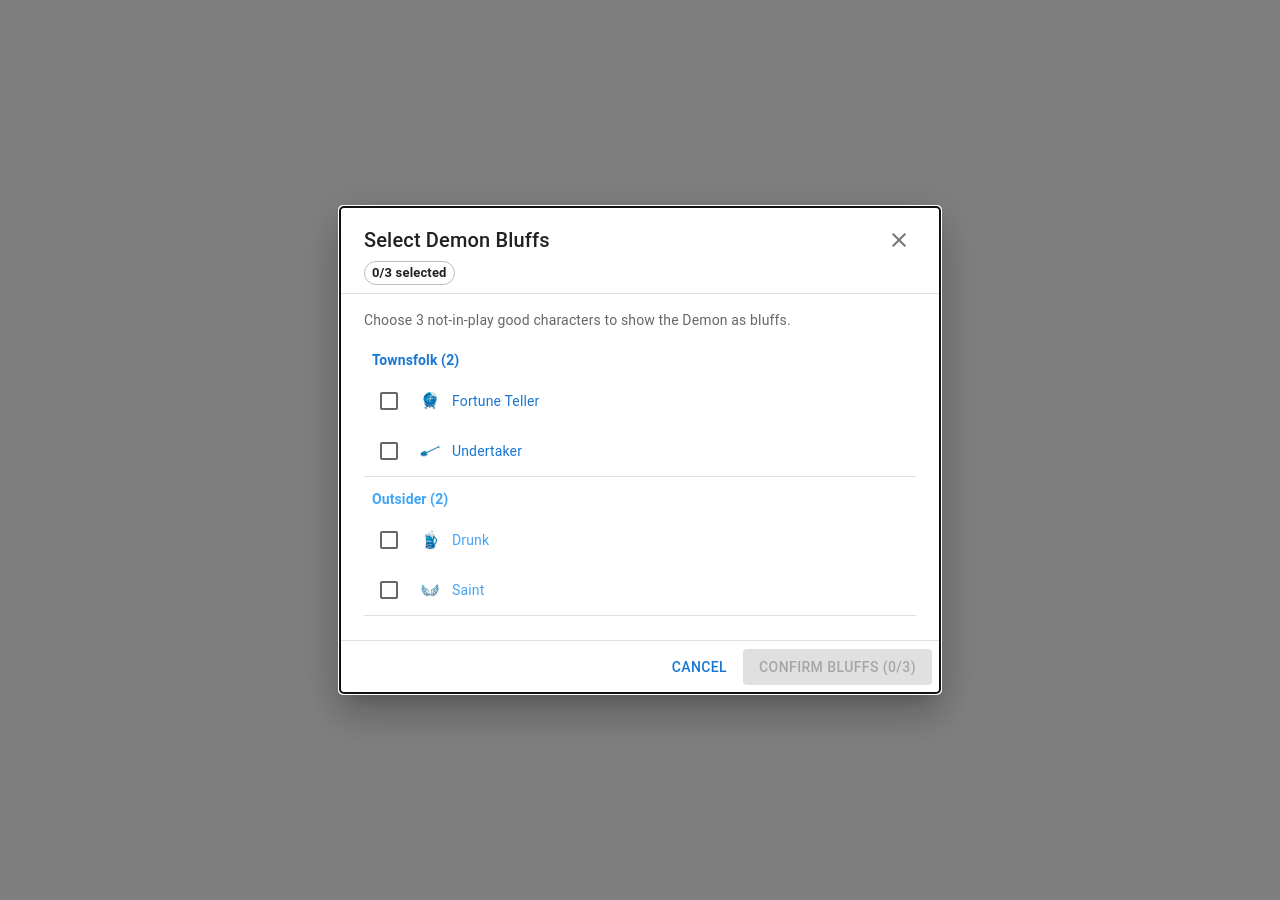
Test: DemonBluffSelection › allows selecting up to 3 bluffs
The width and height of the screenshot is (1280, 900).
Step 1. Click the button with test id "bluff-toggle-fortuneteller" → (458, 401), box 377,387 -> 540,415
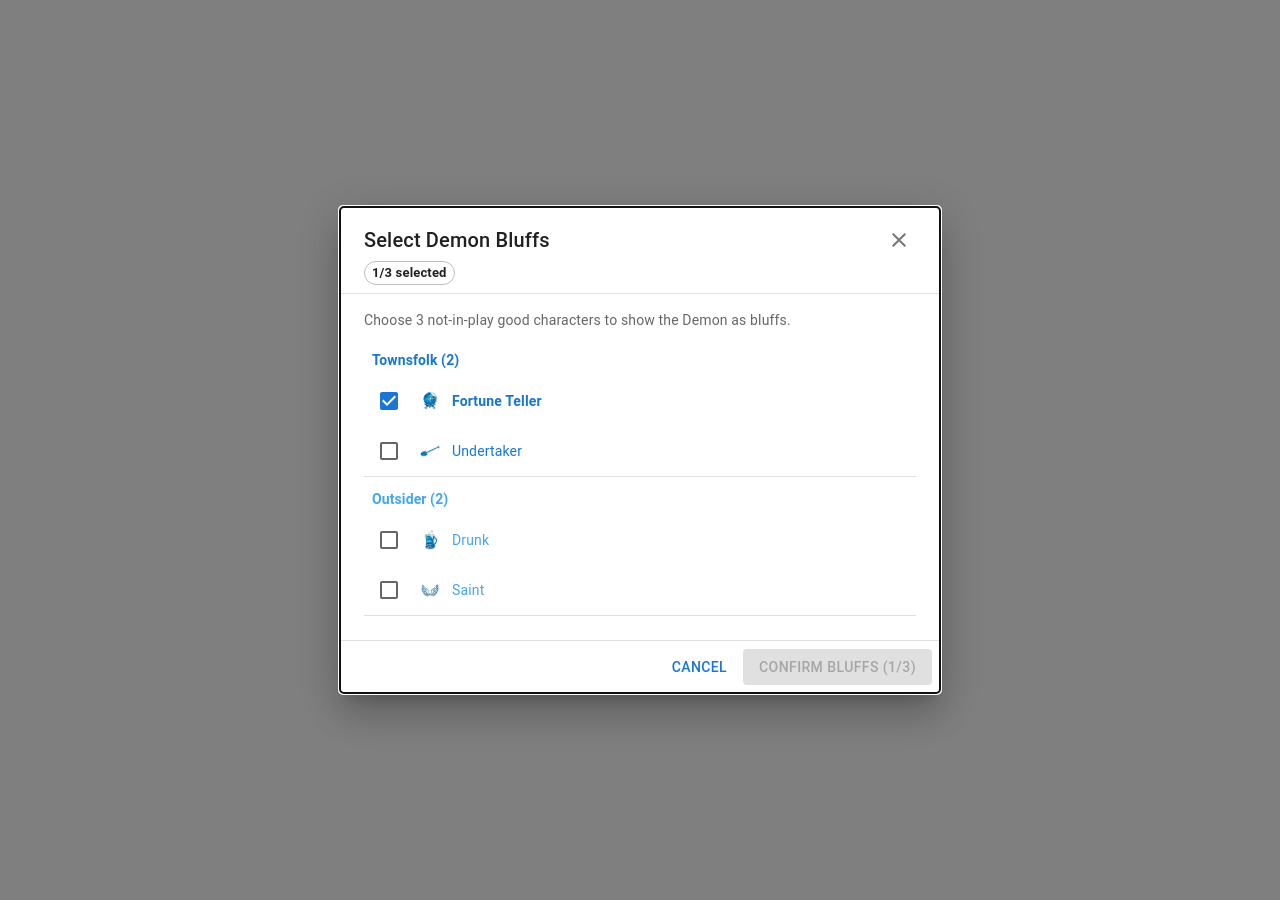
Check: the element with test id "bluff-count-chip" shows "1/3", box 372,265 -> 446,280
Step 2. Click the button with test id "bluff-toggle-undertaker" → (450, 451), box 377,437 -> 522,465
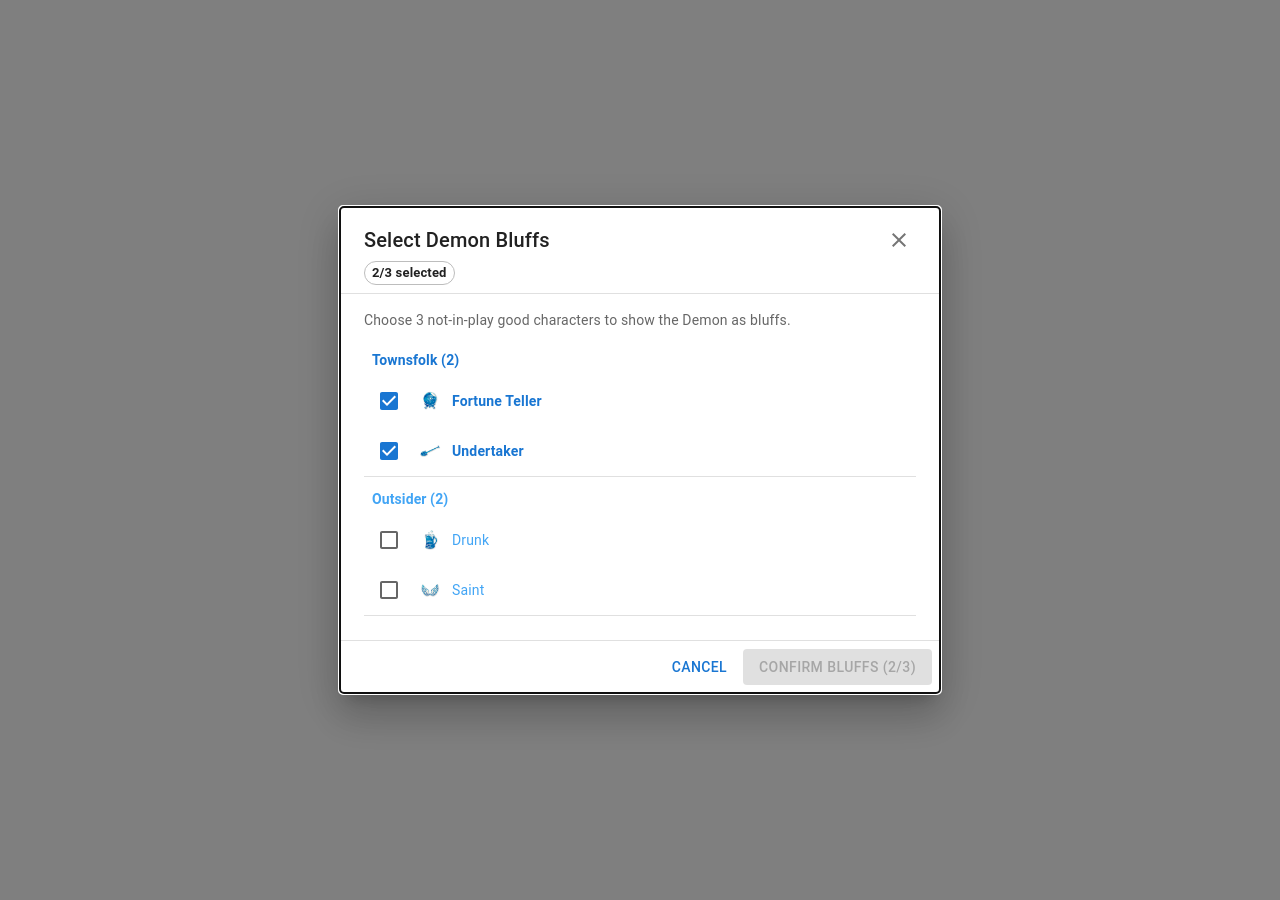
Check: the element with test id "bluff-count-chip" shows "2/3", box 372,265 -> 446,280
Step 3. Click the button with test id "bluff-toggle-drunk" → (433, 540), box 377,526 -> 489,554
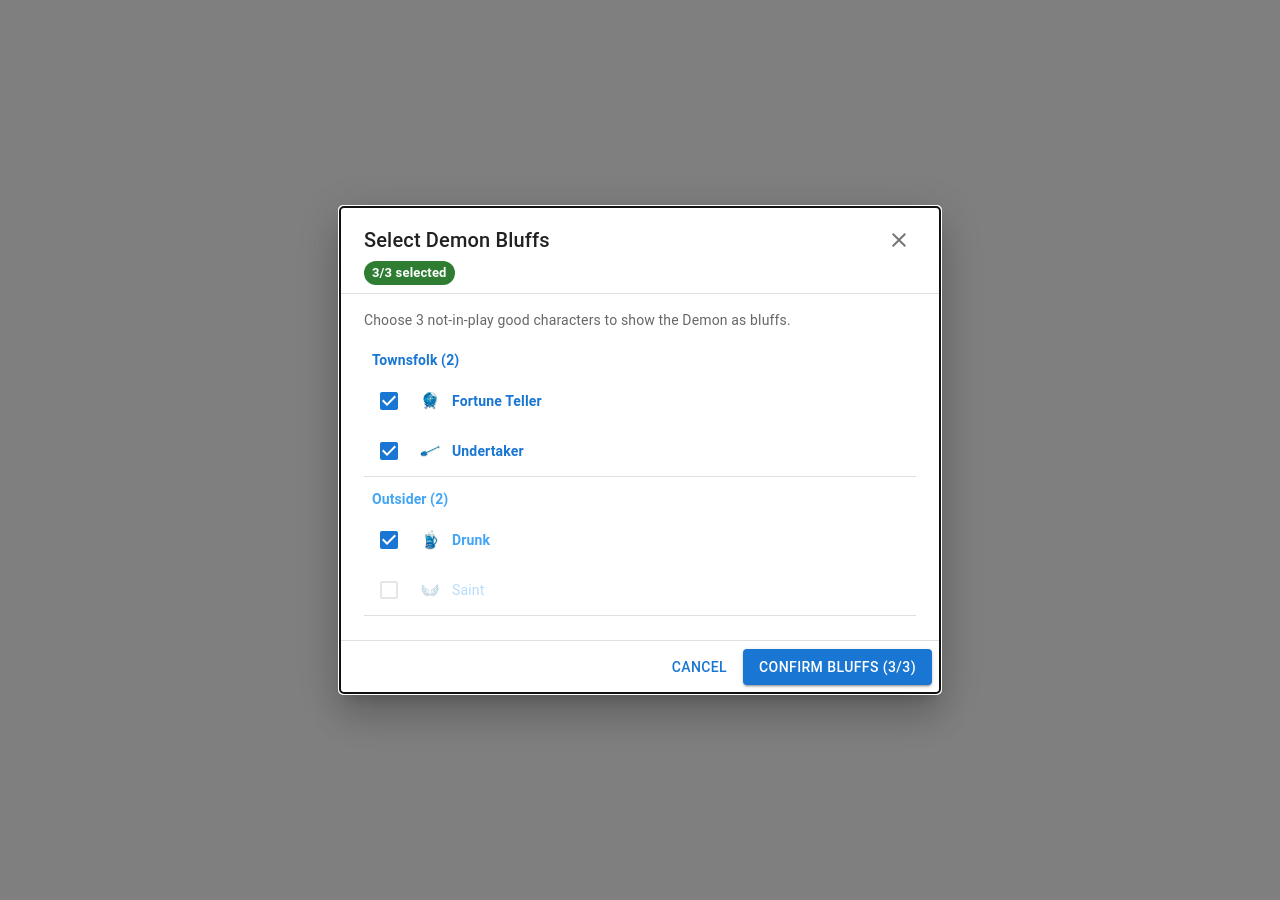
Check: the element with test id "bluff-count-chip" shows "3/3", box 372,265 -> 446,280
